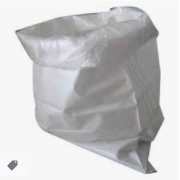kantong: (14, 6, 167, 172)
